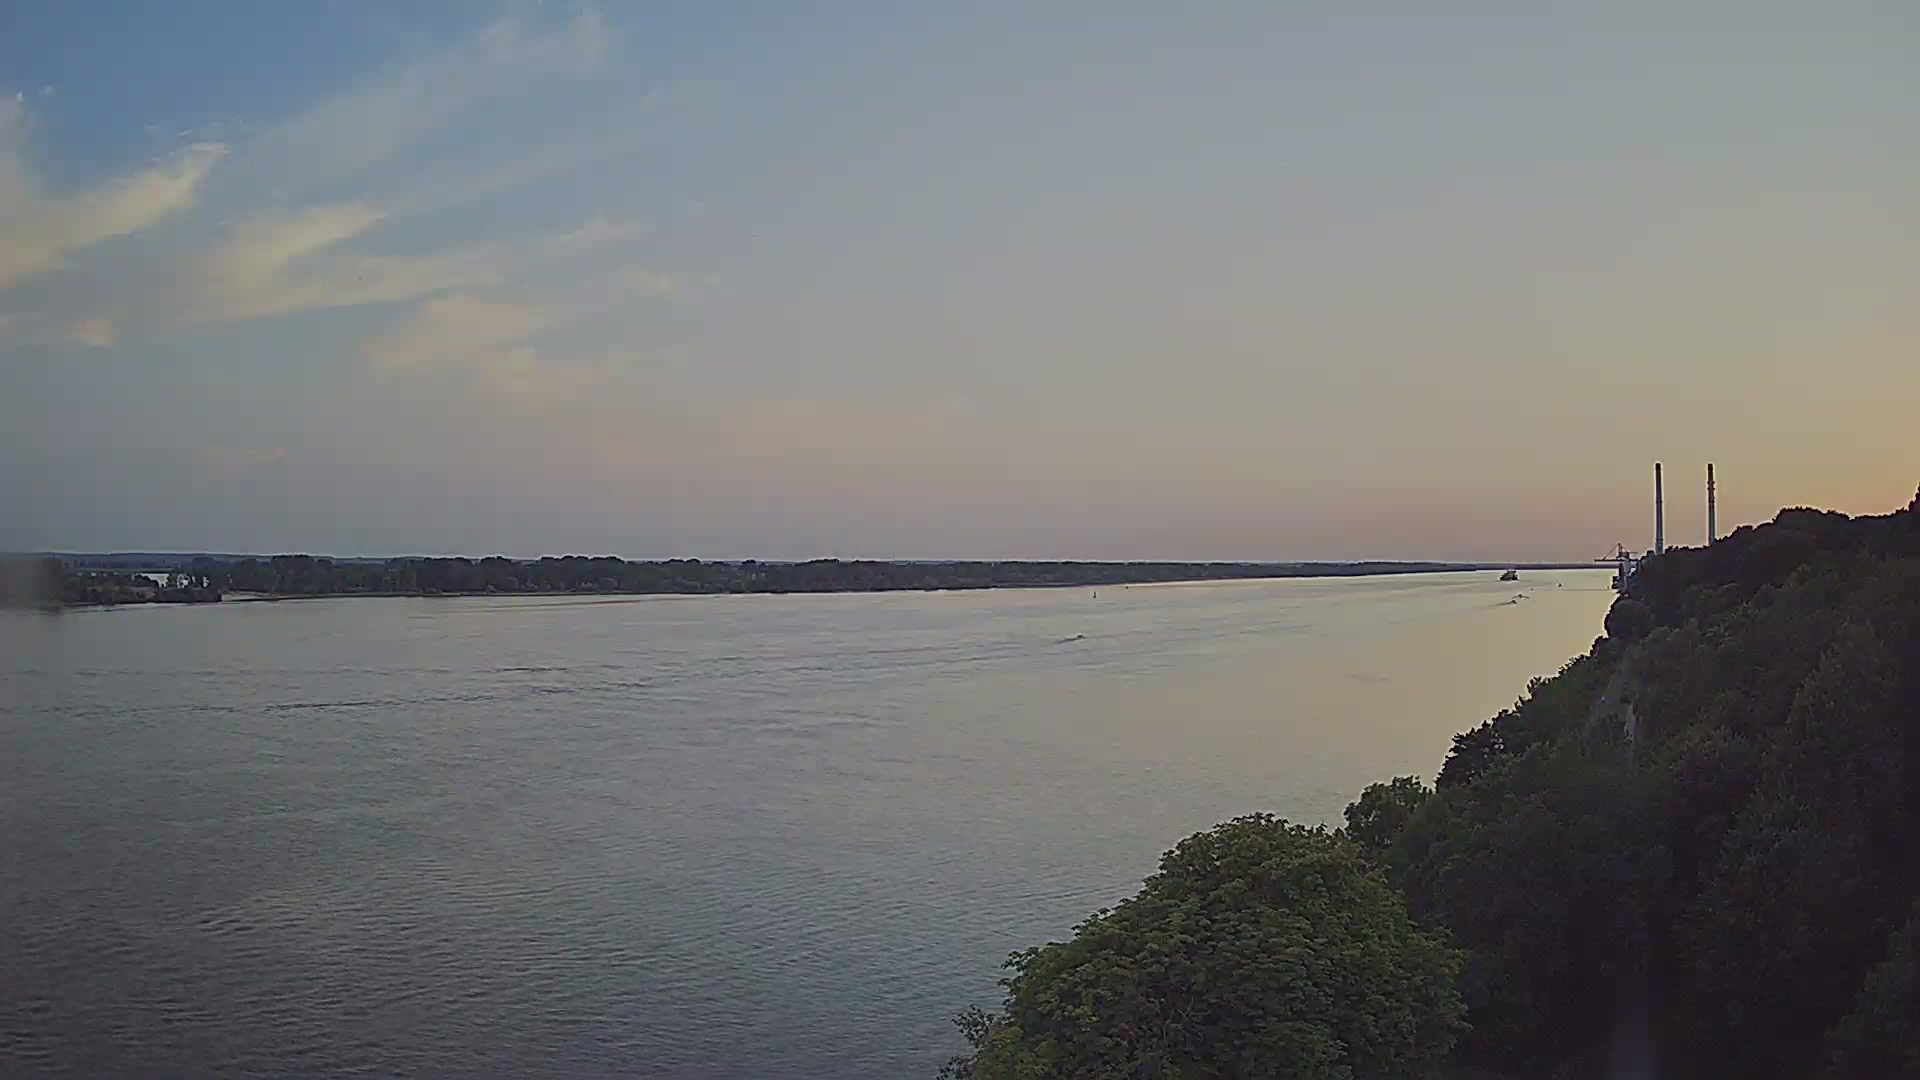sea: (1499, 567, 1519, 582)
